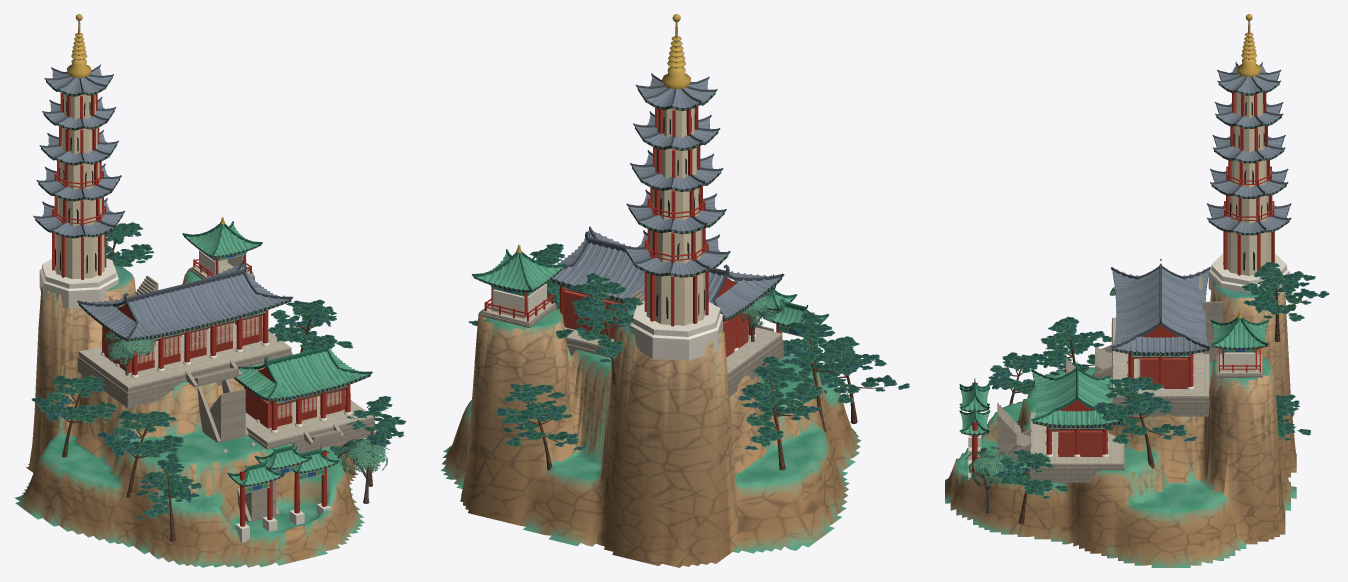
Rendered from Sect.glb.
The picture shows the model from 3 angles, left to right: view 1: azimuth 30°, elevation 25°; view 2: azimuth 150°, elevation 25°; view 3: azimuth 270°, elevation 25°; orthographic projection. The views are drawn at different scales.
Visible parts, largest first — view 1: Sect; view 2: Sect; view 3: Sect.
Part boxes in pixels (x1,y1,x2,y2): Sect: (15, 14, 406, 567); Sect: (441, 14, 909, 567); Sect: (945, 14, 1329, 567).
Size of the model in its own units: 38.79 by 52.65 by 41.81.
5 materials, 5 textured.
